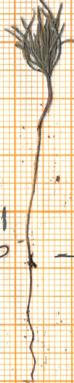flower: (0, 0, 74, 80)
root: (17, 263, 44, 383)
stem: (21, 80, 58, 265)
